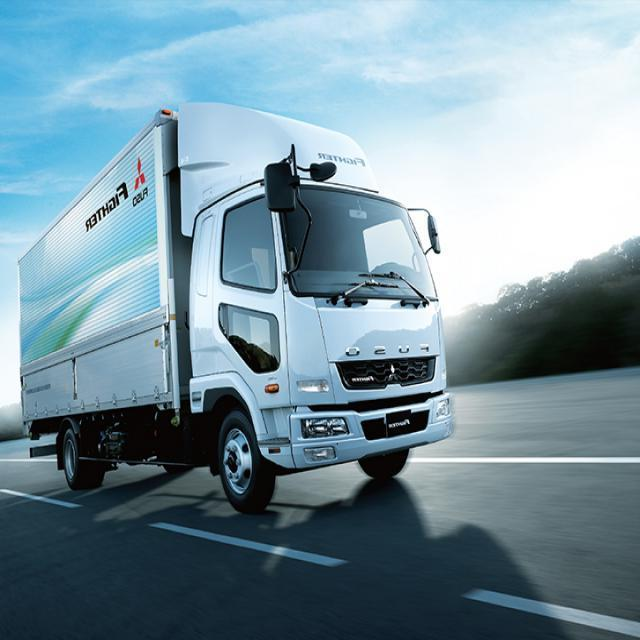truck: (21, 98, 458, 516)
